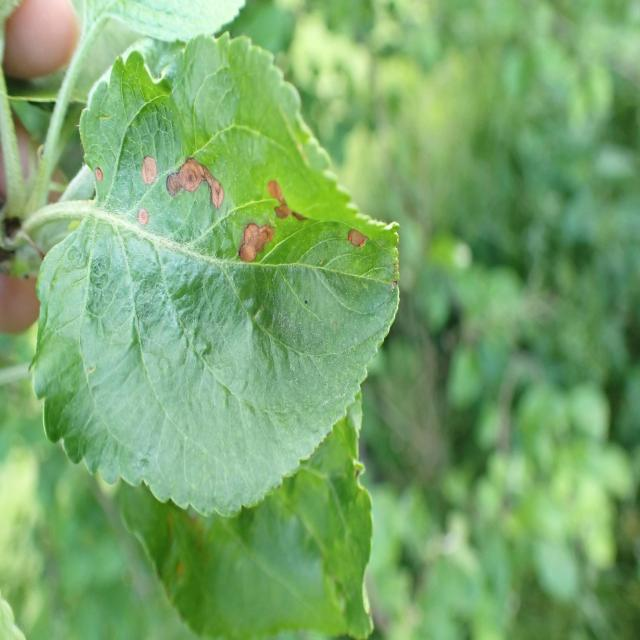Black Rot: (164, 138, 223, 236), (261, 160, 322, 242), (121, 132, 161, 205), (232, 200, 272, 272), (337, 210, 382, 272), (125, 197, 161, 266), (77, 142, 114, 195)
